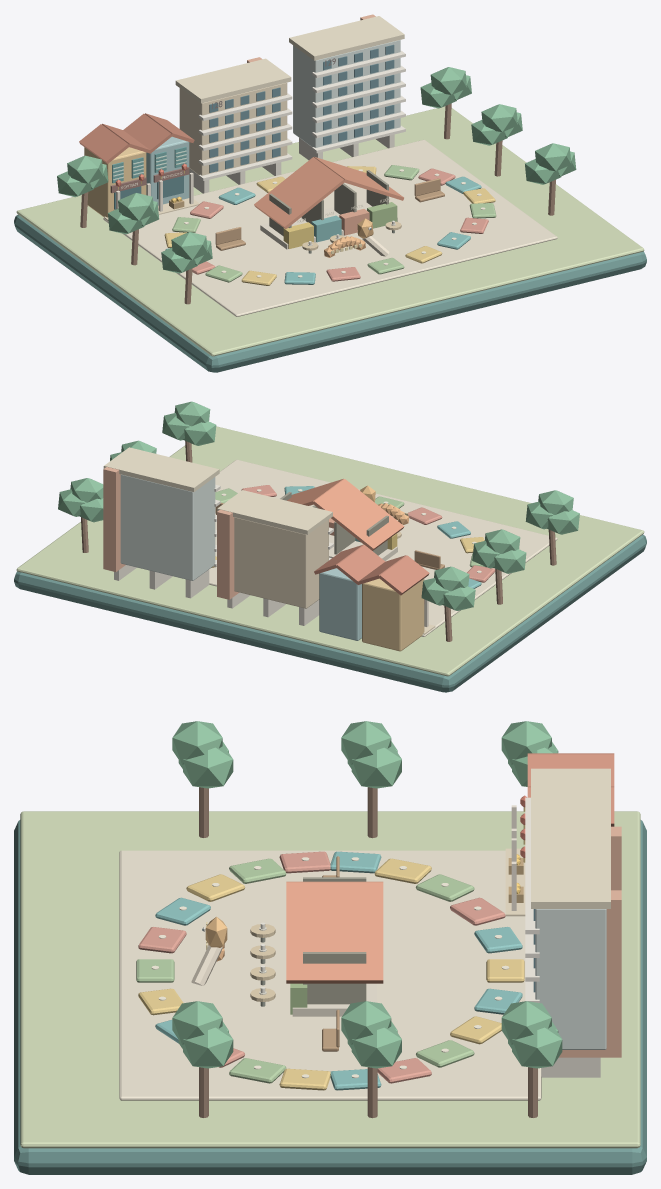
The model's file is estate.glb.
3 views of the same model, one above another, from view 1: azimuth 30°, elevation 25°; view 2: azimuth 150°, elevation 25°; view 3: azimuth 270°, elevation 25° (orthographic). The views are drawn at different scales.
Parts seen in each view (by area): view 1: Neighbourhood ground, Courtyard, Island plinth, Rain tree canopy, Common corridor, Block roof, HDB block.001, Apartment window, HDB block, Pitched roof.004, Pitched roof, Route tile 03 (+16 smaller); view 2: Neighbourhood ground, Island plinth, Rain tree canopy, HDB block.001, Courtyard, HDB block, Block roof, Shophouse, Stair tower, Pitched roof.004, Pitched roof, Shophouse.001 (+7 smaller); view 3: Neighbourhood ground, Courtyard, Island plinth, Rain tree canopy, Block roof, Pitched roof.004, HDB block.001, Route tile 00, Route tile 03, Route tile 01, Route tile 02, Stair tower (+8 smaller).
Part boxes in pixels (<box>): Neighbourhood ground: <box>16,106,644,356</box>; Courtyard: <box>103,140,557,316</box>; Island plinth: <box>14,214,646,372</box>; Rain tree canopy: <box>57,67,576,273</box>; Common corridor: <box>198,50,405,180</box>; Block roof: <box>175,16,404,103</box>; HDB block.001: <box>293,40,400,147</box>; Apartment window: <box>209,44,394,172</box>; HDB block: <box>179,82,287,175</box>; Pitched roof.004: <box>254,157,403,228</box>; Pitched roof: <box>79,113,194,163</box>; Route tile 03: <box>172,165,496,282</box>; Neighbourhood ground: <box>16,426,644,676</box>; Island plinth: <box>14,534,646,692</box>; Rain tree canopy: <box>58,401,579,610</box>; HDB block.001: <box>120,474,215,580</box>; Courtyard: <box>209,459,557,636</box>; HDB block: <box>234,517,328,608</box>; Block roof: <box>103,447,332,534</box>; Shophouse: <box>362,578,424,651</box>; Stair tower: <box>103,467,239,599</box>; Pitched roof.004: <box>287,478,404,550</box>; Pitched roof: <box>314,544,429,595</box>; Shophouse.001: <box>319,568,361,640</box>; Neighbourhood ground: <box>20,811,640,1148</box>; Courtyard: <box>119,850,541,1100</box>; Island plinth: <box>14,820,646,1174</box>; Rain tree canopy: <box>172,721,562,1068</box>; Block roof: <box>531,768,610,908</box>; Pitched roof.004: <box>286,881,383,983</box>; HDB block.001: <box>535,909,606,1049</box>; Route tile 00: <box>138,807,525,1090</box>; Route tile 03: <box>136,858,474,1083</box>; Route tile 01: <box>155,851,522,1090</box>; Route tile 02: <box>138,851,505,1083</box>; Stair tower: <box>559,826,621,1057</box>.
Bounding box in the file's own units: 19 × 5.63 × 15.
